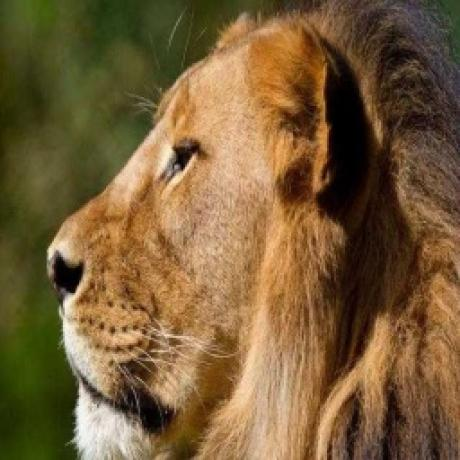Lion: (41, 0, 460, 460)
